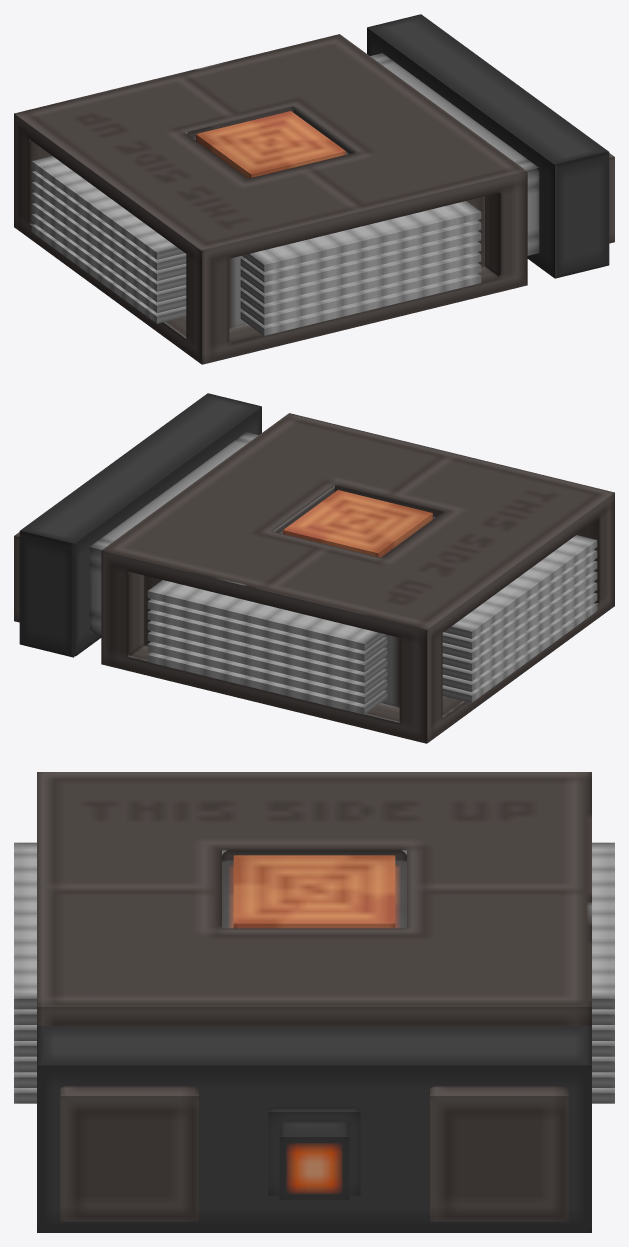
File: electric_heater.obj
3 views of the same model, one above another, from view 1: azimuth 30°, elevation 25°; view 2: azimuth 150°, elevation 25°; view 3: azimuth 270°, elevation 25° (orthographic). The views are drawn at different scales.
Parts seen in each view (by area): view 1: Plane; view 2: Plane; view 3: Plane.
Part boxes in pixels (x1,y1,x2,y2): Plane: [14, 14, 614, 364]; Plane: [14, 393, 614, 743]; Plane: [14, 772, 614, 1232].
Bounding box in the file's own units: 4.12 × 1 × 3.25.
